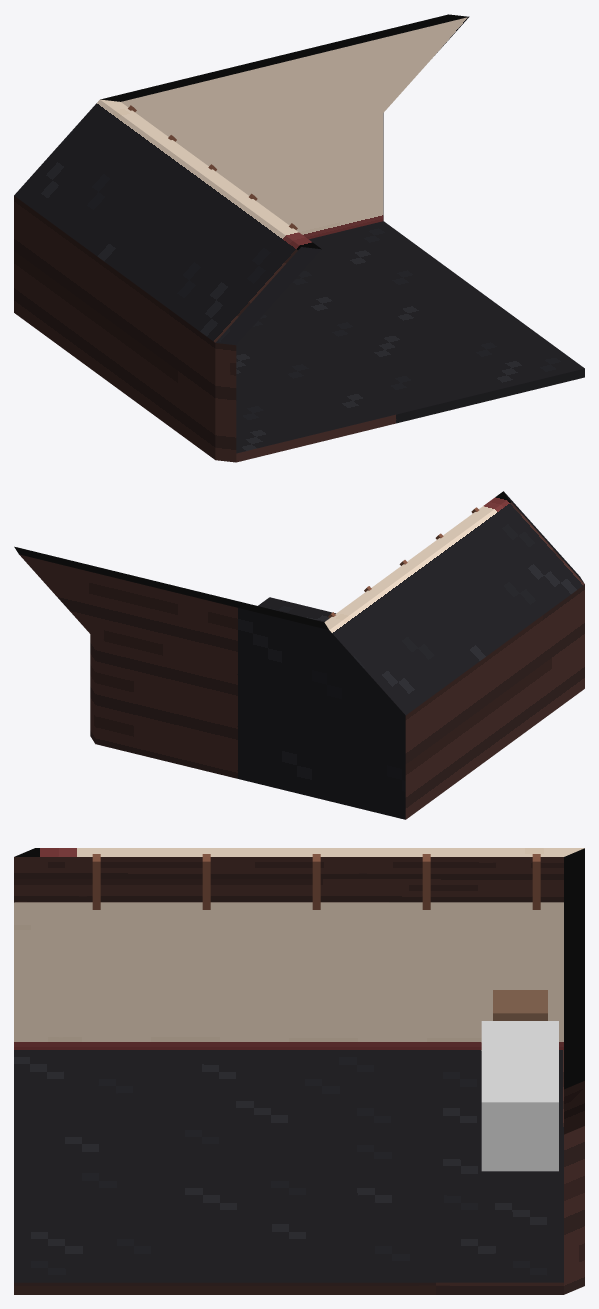
Rendered from living_room.glb.
The picture shows the model from 3 angles, top to bottom: view 1: azimuth 30°, elevation 25°; view 2: azimuth 150°, elevation 25°; view 3: azimuth 270°, elevation 25°; orthographic projection. The views are drawn at different scales.
Visible parts, largest first — view 1: Main Floor; view 2: Main Floor; view 3: Main Floor, Table, BlockShelf.
Boxes of the visible parts, box(x1,y1,x2,y2) form: Main Floor: box(14, 14, 584, 462); Main Floor: box(14, 491, 584, 819); Main Floor: box(14, 848, 584, 1294); Table: box(481, 1021, 558, 1171); BlockShelf: box(493, 990, 547, 1020).
Bounding box in the file's own units: 25.69 × 10.69 × 20.76.
Materials: 3 (1 with a texture image).
